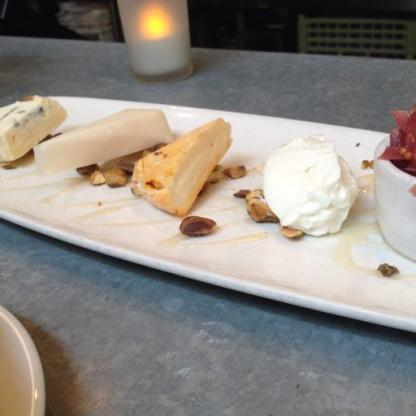mozarella cheese: (264, 135, 357, 238)
